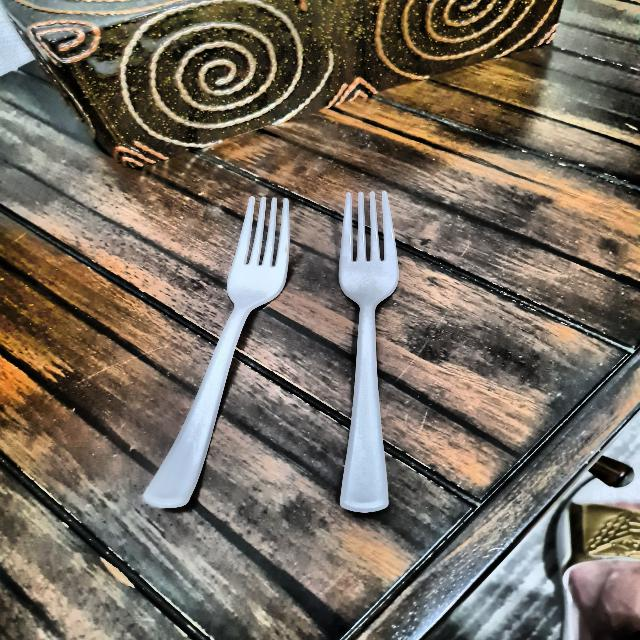plastic utensil: (138, 191, 303, 510), (338, 186, 404, 515)
